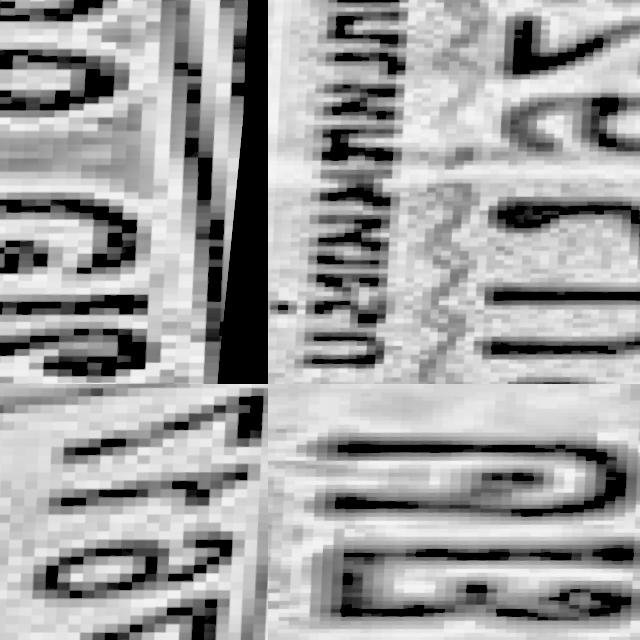license-plate: (268, 0, 640, 384), (0, 0, 268, 384), (268, 384, 640, 640), (0, 384, 268, 640)
